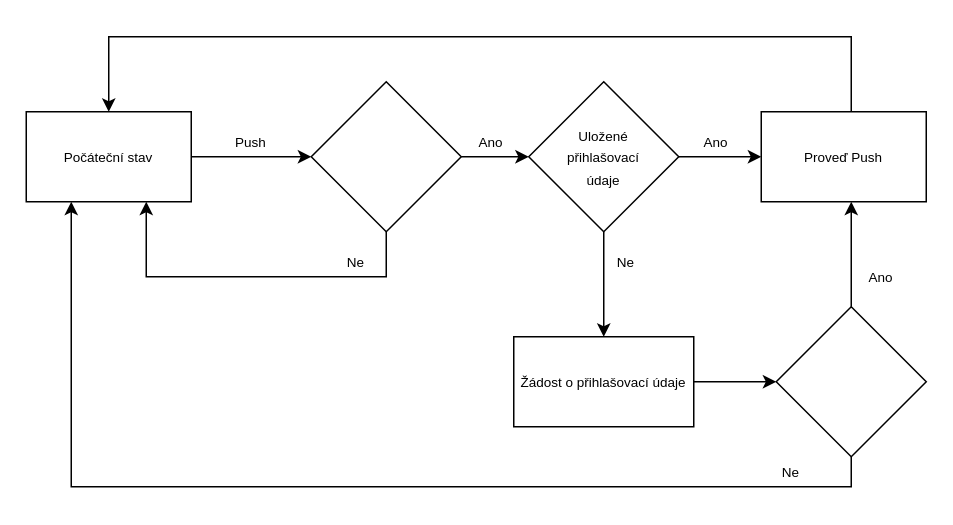
This 953x525 diagram has some shape labels left out. The shapes that lost their labels are listed below. From the top down, each one's centre as x and y in pixels, then its label:
the point at 385,156: Získáno vzdálené URL
the point at 850,381: Vyplněny přihlašovací údaje
